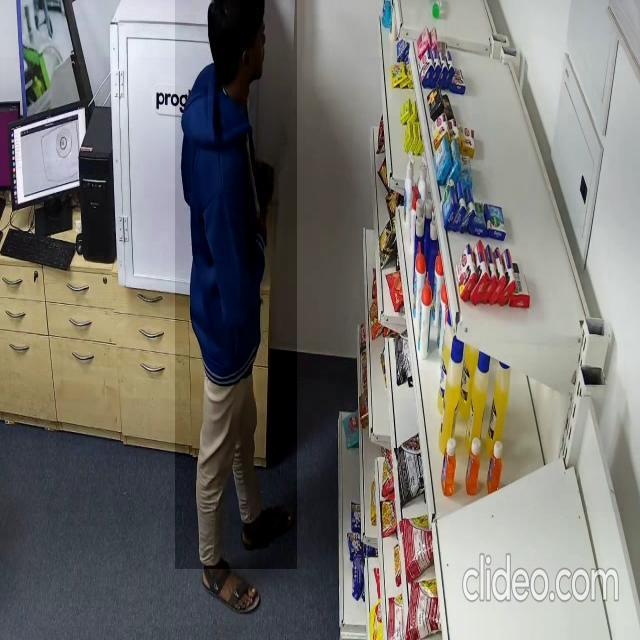Shoplifting: (175, 0, 297, 569)
